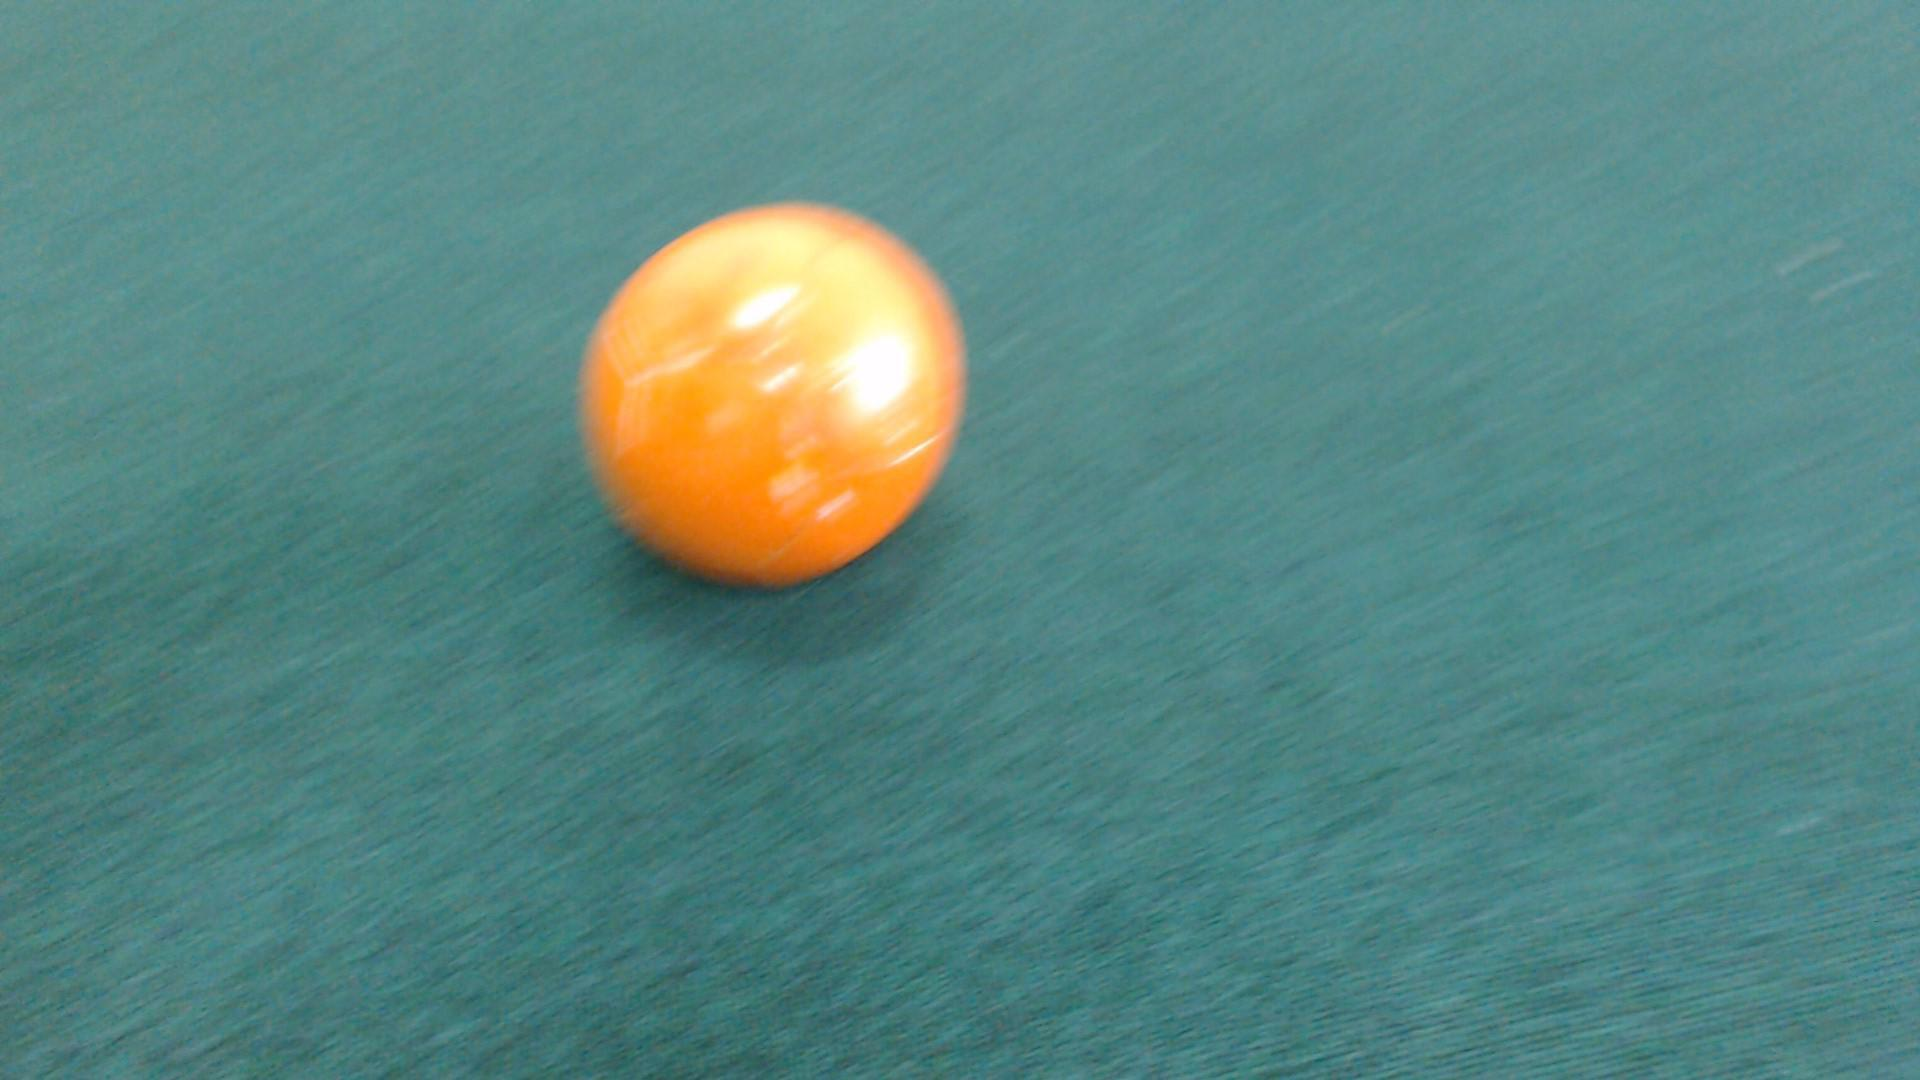bola: (570, 189, 975, 584)
